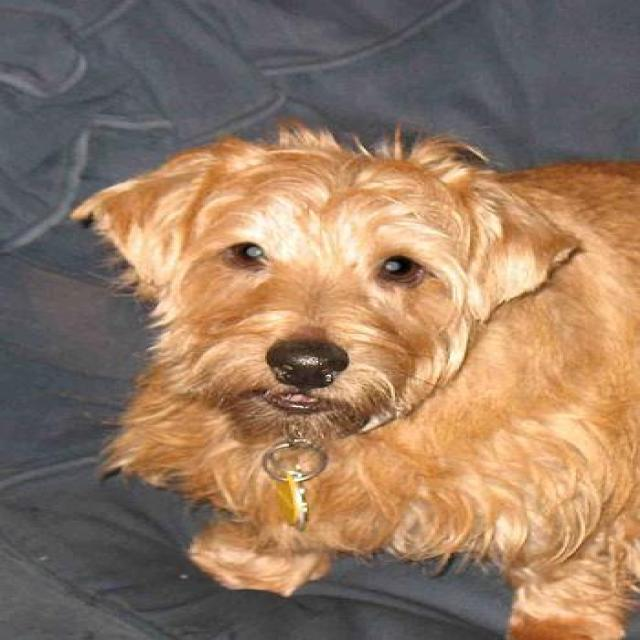dogs: (85, 90, 640, 640)
